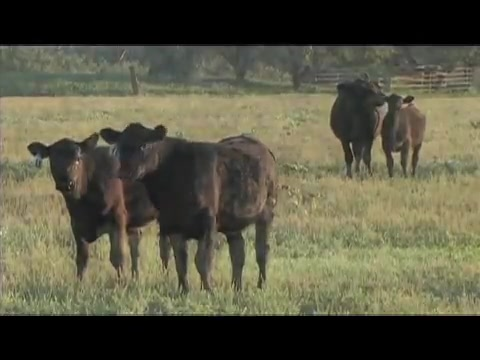cow: (101, 124, 280, 295), (28, 132, 137, 286), (328, 74, 389, 180), (379, 92, 427, 178)
